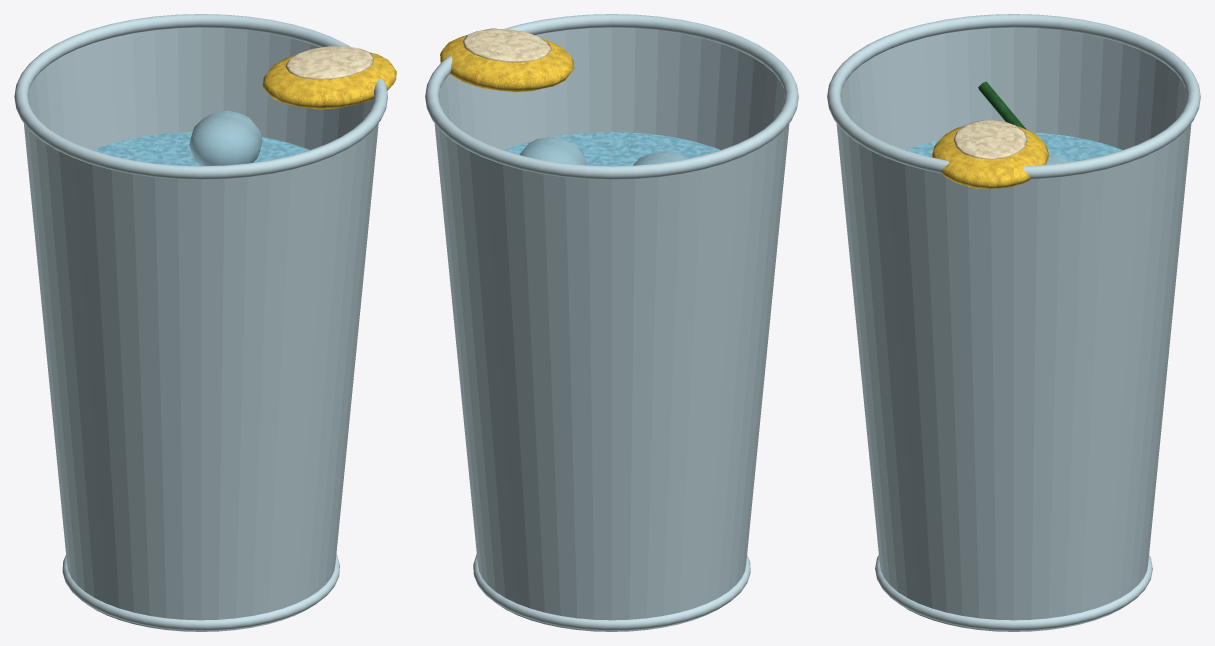
The model's file is agua-con-gas.glb.
3 renders of one model, left to right at view 1: azimuth 30°, elevation 25°; view 2: azimuth 150°, elevation 25°; view 3: azimuth 270°, elevation 25°, orthographic.
Parts seen in each view (by area): view 1: glass, lemon, ice, water, cream; view 2: glass, lemon, water, cream, ice; view 3: glass, lemon, cream, water, leaf.
Boxes of the visible parts, x1,y1,x2,y2 form: glass: [14, 14, 387, 631]; lemon: [262, 52, 396, 109]; ice: [189, 110, 262, 165]; water: [93, 132, 309, 165]; cream: [285, 46, 373, 79]; glass: [425, 14, 798, 631]; lemon: [440, 35, 574, 92]; water: [503, 132, 720, 165]; cream: [462, 28, 551, 62]; ice: [519, 136, 688, 165]; glass: [827, 14, 1200, 631]; lemon: [932, 126, 1048, 188]; cream: [953, 120, 1027, 159]; water: [905, 132, 1122, 161]; leaf: [978, 81, 1026, 129].
Bounding box in the file's own units: 0.2009 × 0.28 × 0.191.
7 materials, 7 textured.
